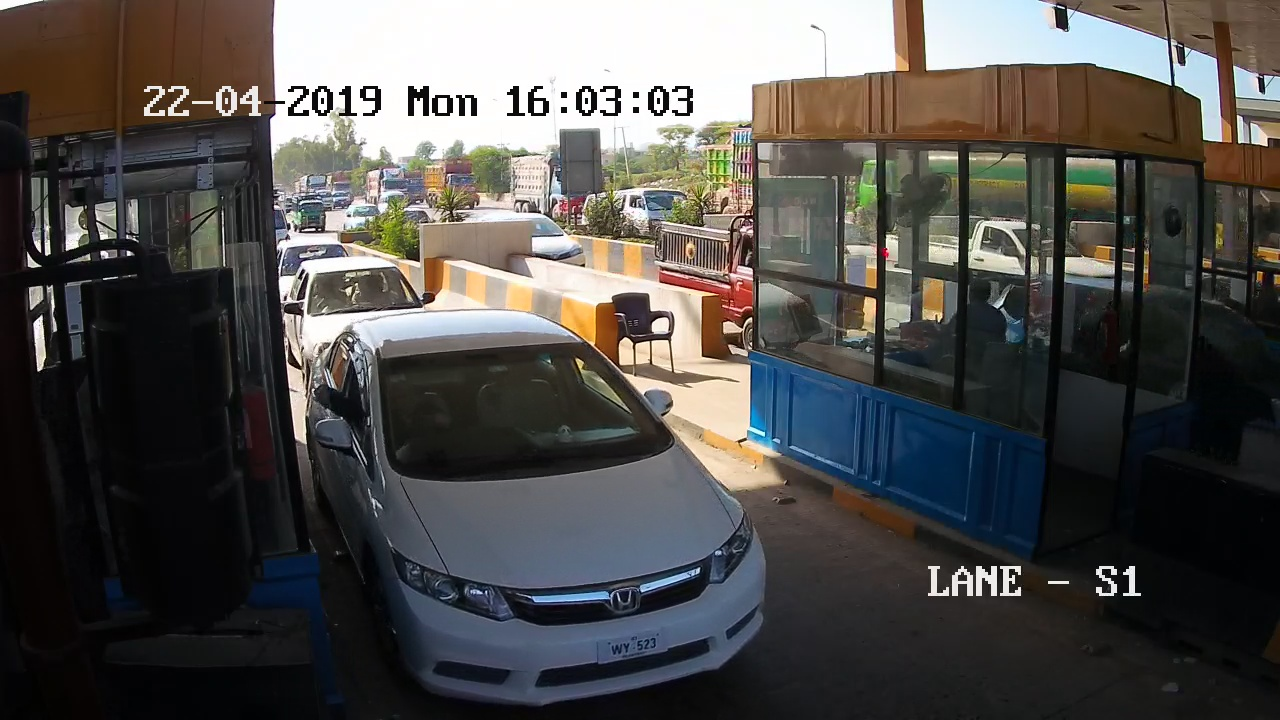Number Plate (Car): (597, 635, 669, 660)
